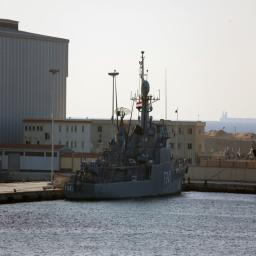Fragata: (63, 49, 190, 205)
